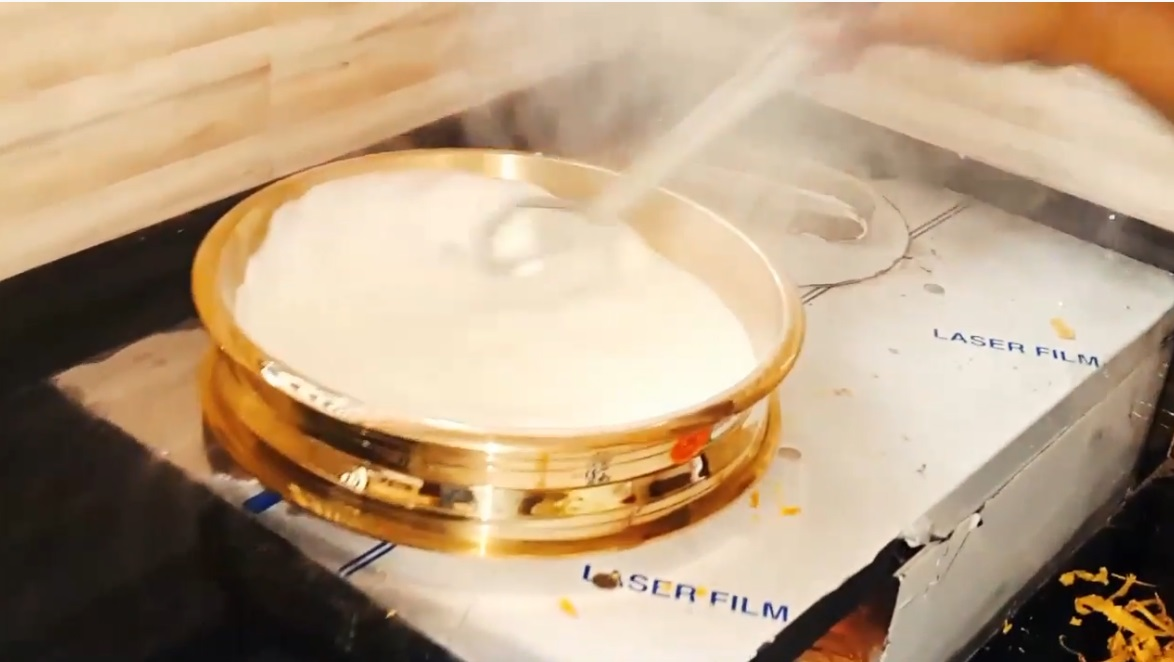Steaming: (186, 139, 807, 549)
